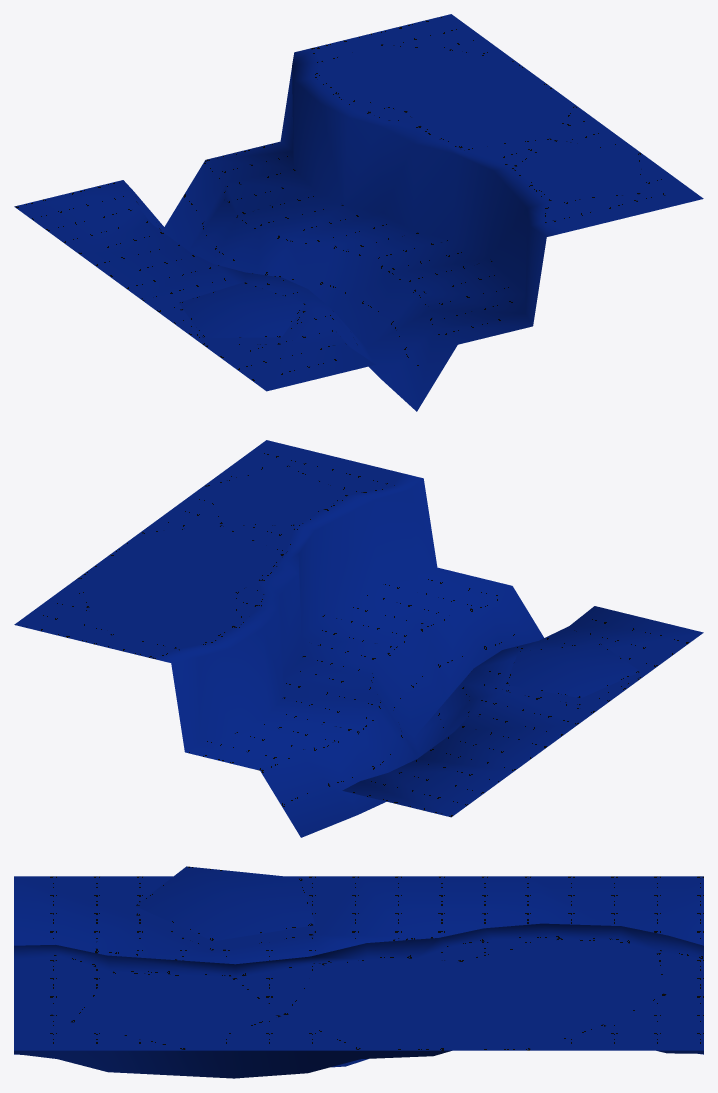
Rendered from GRD_S_C6_R1_1.fbx.
3 views of the same model, one above another, from view 1: azimuth 30°, elevation 25°; view 2: azimuth 150°, elevation 25°; view 3: azimuth 270°, elevation 25° (orthographic). The views are drawn at different scales.
Visible parts, largest first — view 1: material_00022000, material_00032000, material_C0052000, material_C0042000, material_C0012000, material_C0062000; view 2: material_00022000, material_00032000, material_C0052000, material_C0042000, material_C0012000, material_C0062000; view 3: material_00022000, material_C0052000, material_00032000, material_C0012000, material_C0062000, material_C0042000.
Part boxes in pixels (bbox=[...]): material_00022000: bbox=[14, 14, 703, 391]; material_00032000: bbox=[280, 47, 566, 325]; material_C0052000: bbox=[317, 44, 641, 201]; material_C0042000: bbox=[134, 160, 457, 411]; material_C0012000: bbox=[179, 282, 305, 337]; material_C0062000: bbox=[179, 308, 305, 345]; material_00022000: bbox=[14, 440, 703, 817]; material_00032000: bbox=[151, 473, 437, 751]; material_C0052000: bbox=[77, 465, 348, 648]; material_C0042000: bbox=[260, 586, 543, 837]; material_C0012000: bbox=[506, 643, 640, 698]; material_C0062000: bbox=[505, 674, 640, 705]; material_00022000: bbox=[14, 876, 703, 1050]; material_C0052000: bbox=[70, 938, 667, 1050]; material_00032000: bbox=[14, 923, 703, 1078]; material_C0012000: bbox=[135, 866, 314, 941]; material_C0062000: bbox=[135, 910, 315, 950]; material_C0042000: bbox=[14, 933, 703, 1067].
Bounding box in the file's own units: 12800 × 4000 × 12800.
